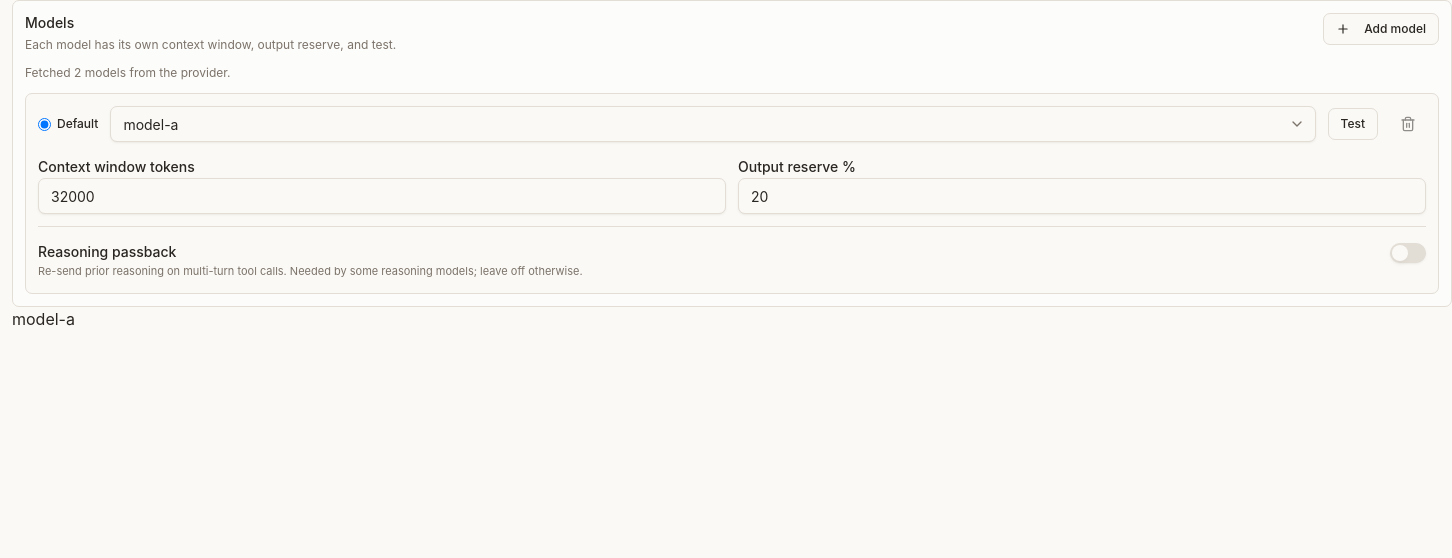
it: ProviderModelsField › adds a discovered model and lets it become the default
Click the button "Add model".
click(1381, 29)  # box [1323,13,1439,45]
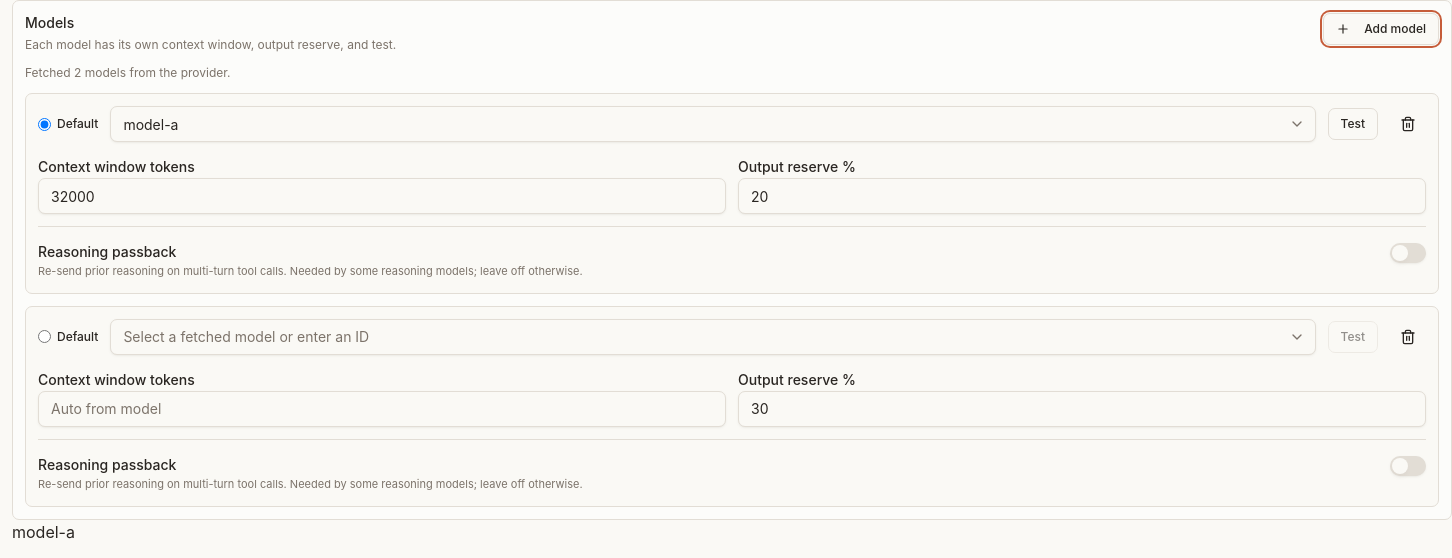
Click the dropdown named "Model ID".
click(713, 337)  # box [110,319,1316,355]
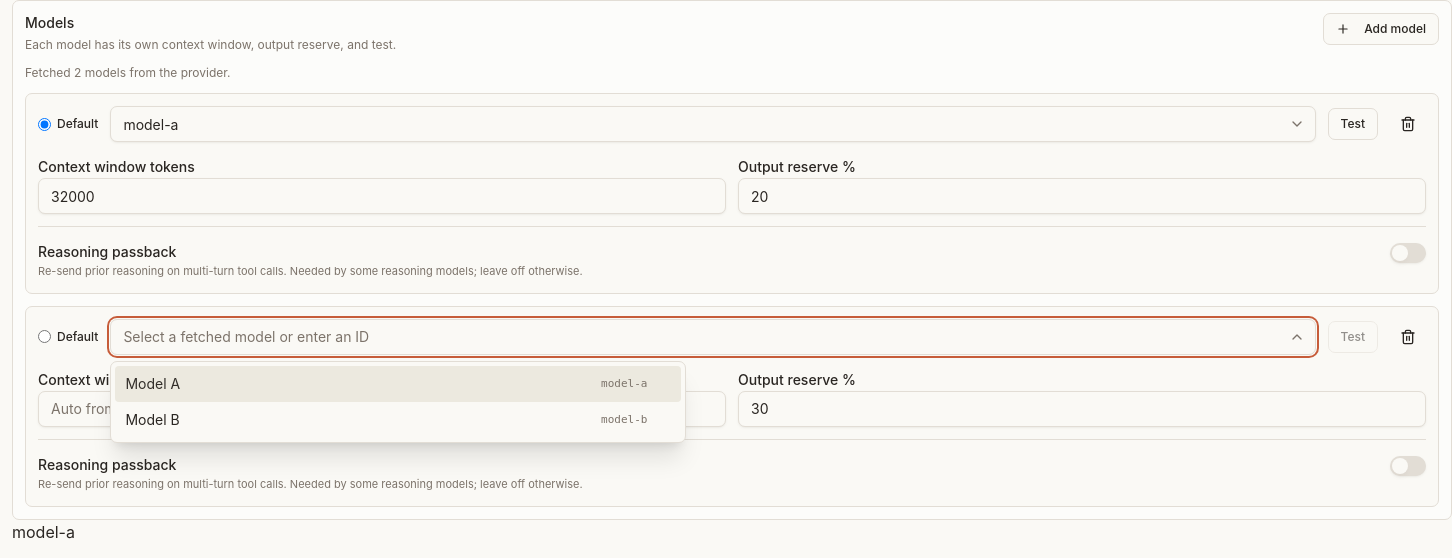
Click the option "Model B model-b".
click(153, 419)  # box [115,402,681,438]
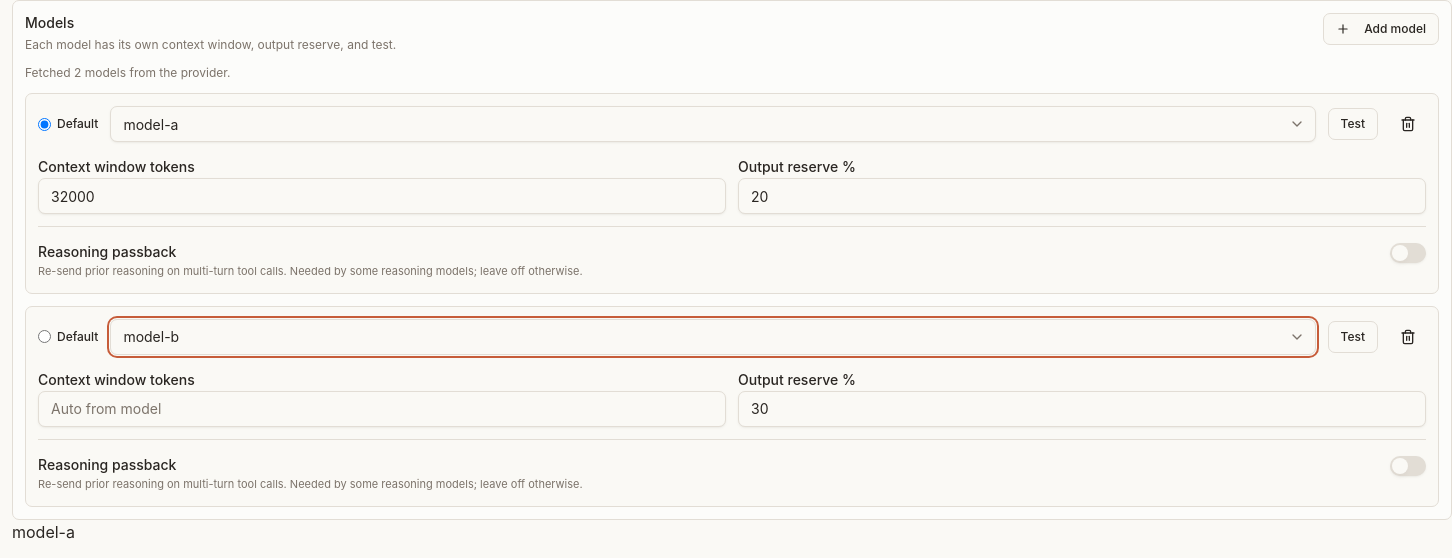
Click the 2nd radio button labelled "Default".
click(44, 337)  # box [38,330,51,343]
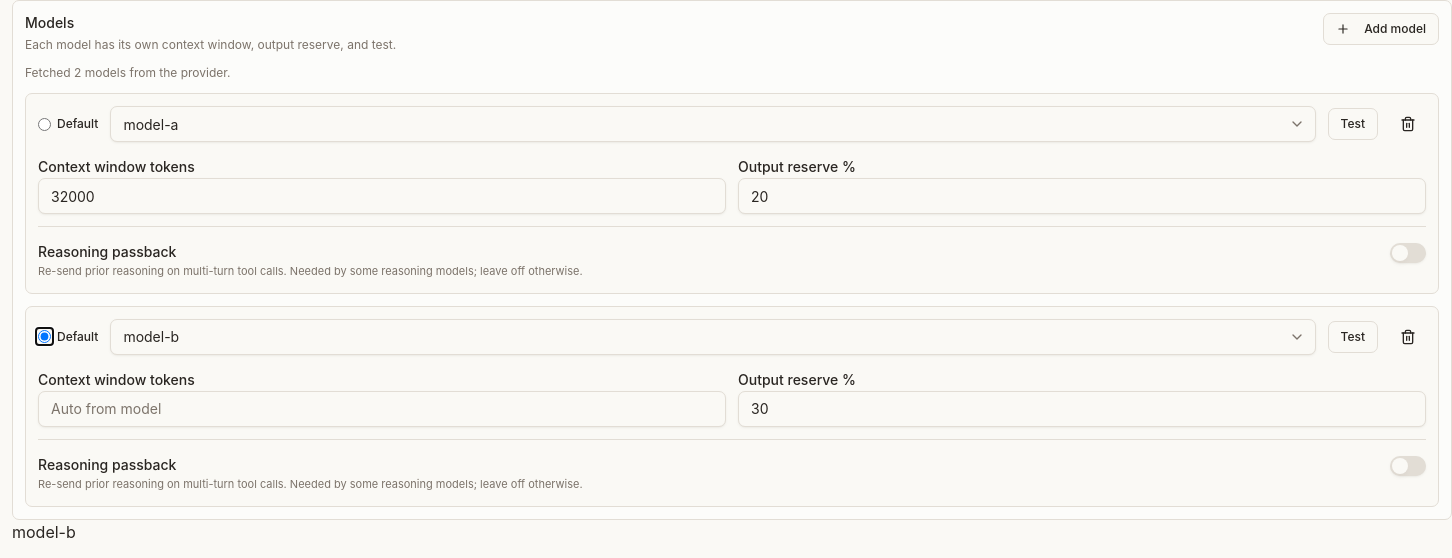
Check: the 2nd dropdown named "Model ID" holds "model-b", box [110,319,1316,355]
Check: the text "model-b" is shown, box [12,522,76,542]
